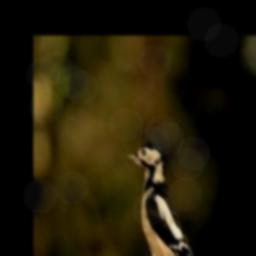Woodpecker: (126, 143, 194, 256)
